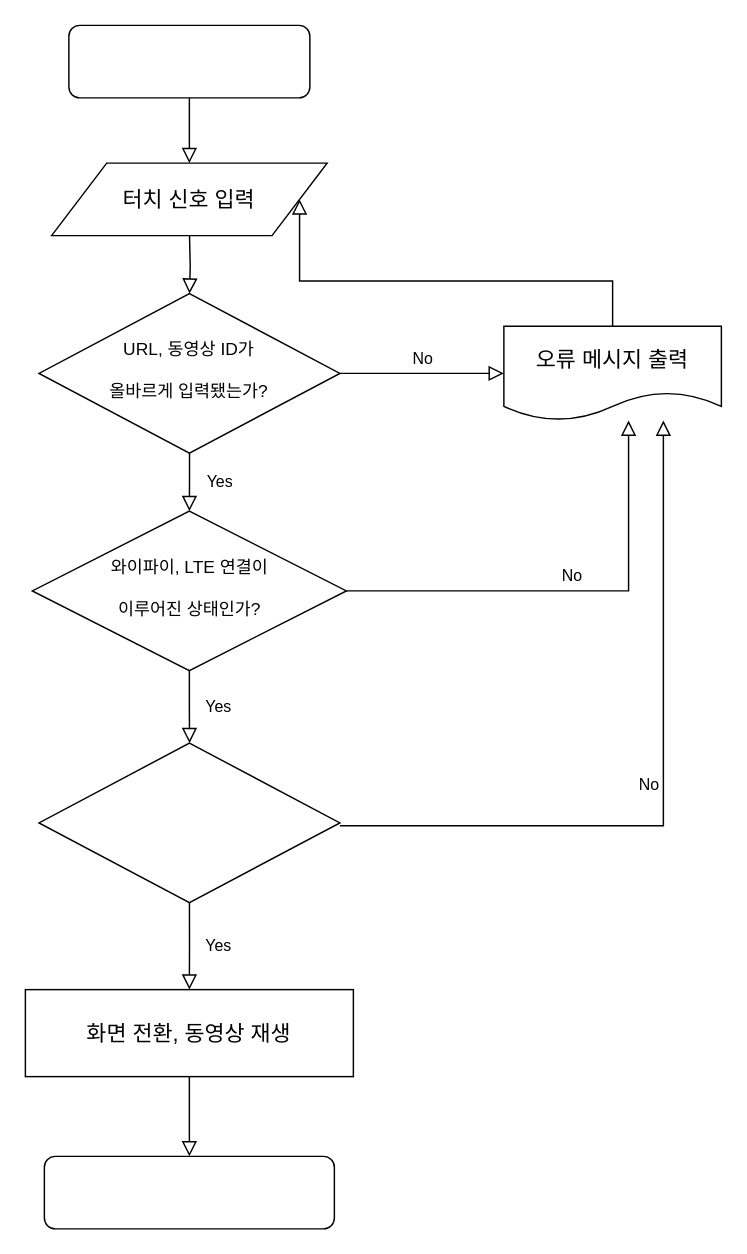
The diagram is 747 pixels wide and 1254 high, and some of its shapes have lost their labels. The box of each missing label's shape, as (x1, y1, x2, y2) in pixels:
동영상 재생 화면: (67, 24, 310, 98)
동영상 재생 화면 종료: (43, 1155, 334, 1229)
실제 YouTube 서버에 동영상이 존재하는가?: (38, 742, 340, 903)
